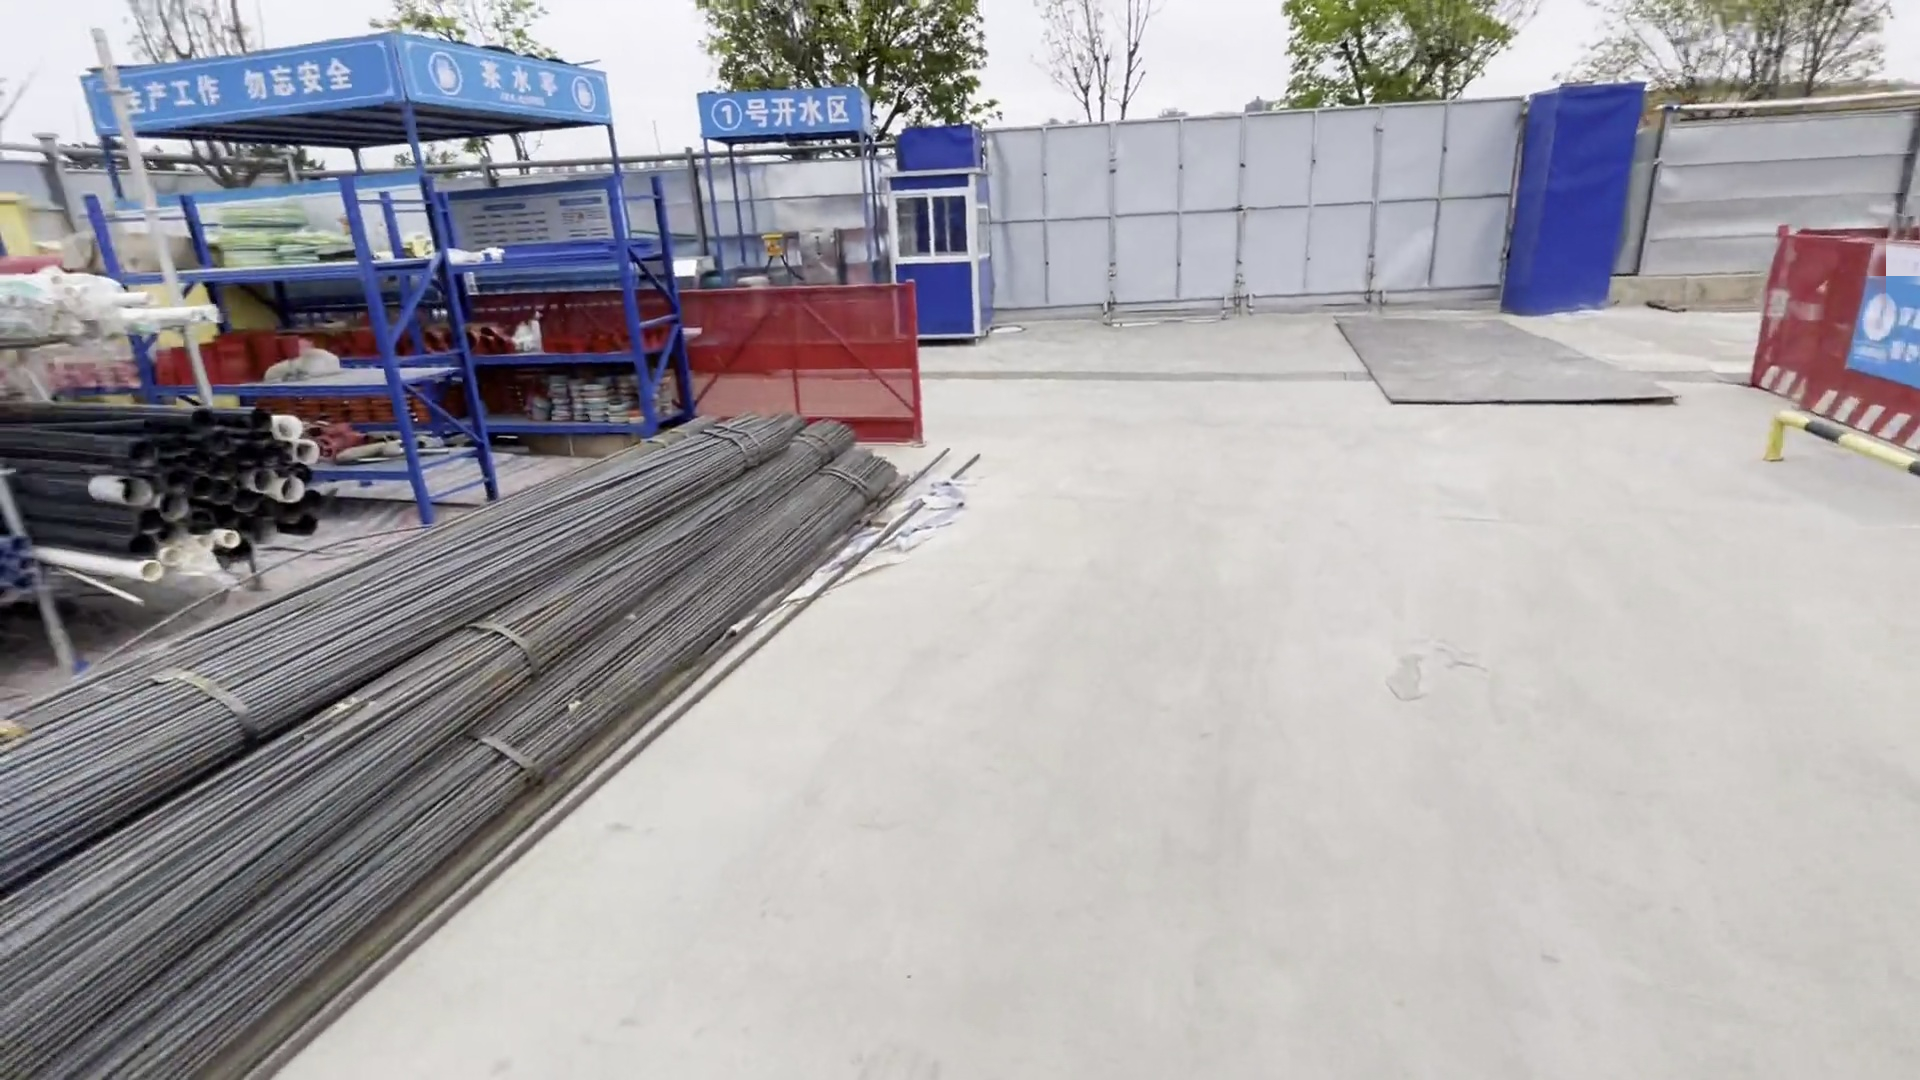ebox: (760, 228, 789, 256)
fence: (407, 270, 935, 430), (1729, 236, 1920, 460)
rebar: (1, 411, 906, 1080)
slogan: (92, 55, 344, 116), (1859, 281, 1920, 372)
